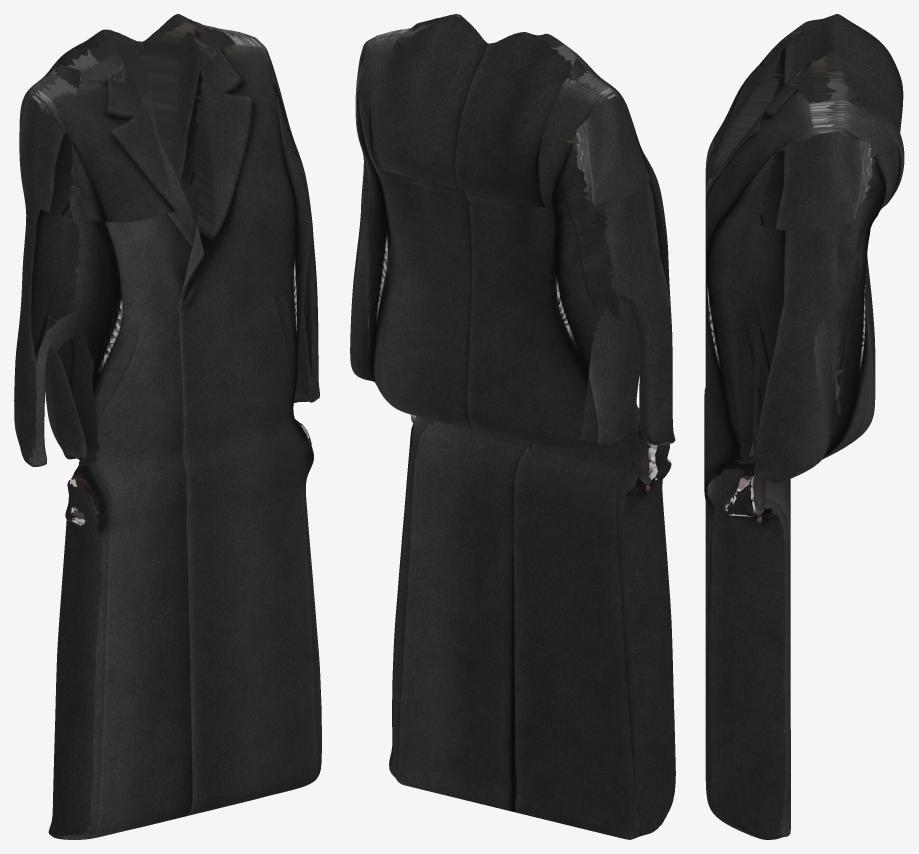
The model's file is NF009-photo-v4.glb.
The picture shows the model from 3 angles, left to right: view 1: azimuth 30°, elevation 25°; view 2: azimuth 150°, elevation 25°; view 3: azimuth 270°, elevation 25°; orthographic projection. The views are drawn at different scales.
Parts seen in each view (by area): view 1: NF009_worn_photo_fitted; view 2: NF009_worn_photo_fitted; view 3: NF009_worn_photo_fitted.
Boxes of the visible parts, x1,y1,x2,y2 form: NF009_worn_photo_fitted: (14, 14, 321, 839); NF009_worn_photo_fitted: (350, 14, 675, 839); NF009_worn_photo_fitted: (704, 14, 904, 839).
Bounding box in the file's own units: 0.5329 × 1.32 × 0.3164.
Materials: 3 (3 with a texture image).
